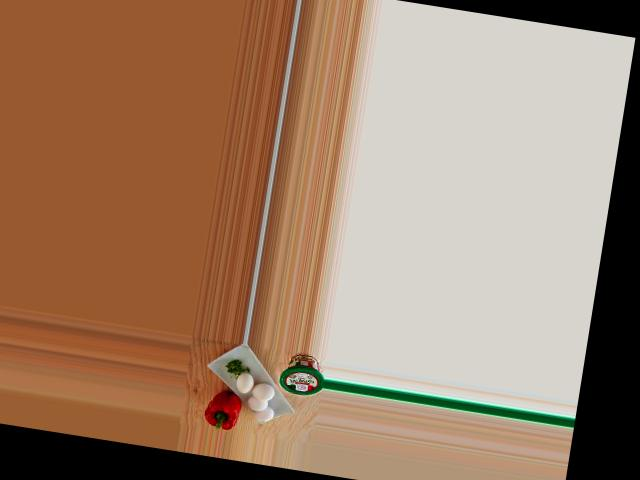bell_pepper: (200, 388, 249, 432)
